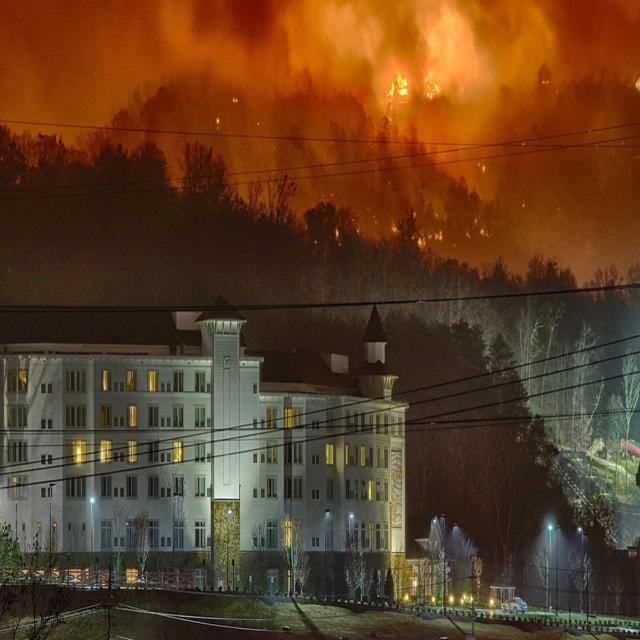Fire: (392, 186, 516, 266), (380, 52, 456, 117)
